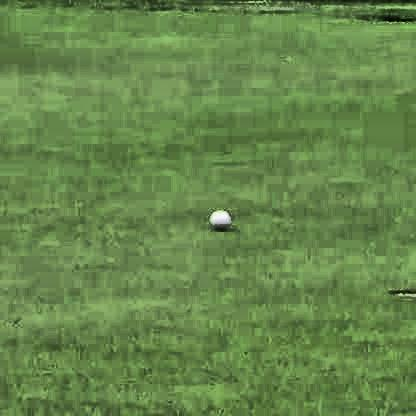golfball: (206, 205, 229, 228)
